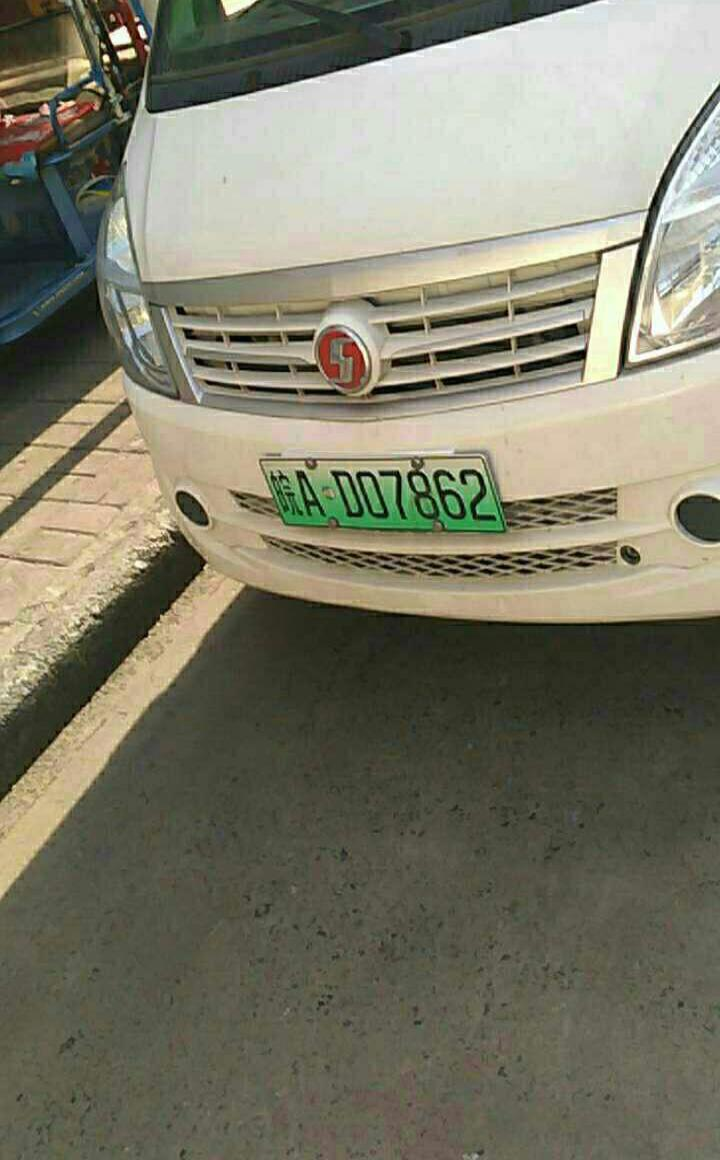car_id: (261, 456, 508, 528)
